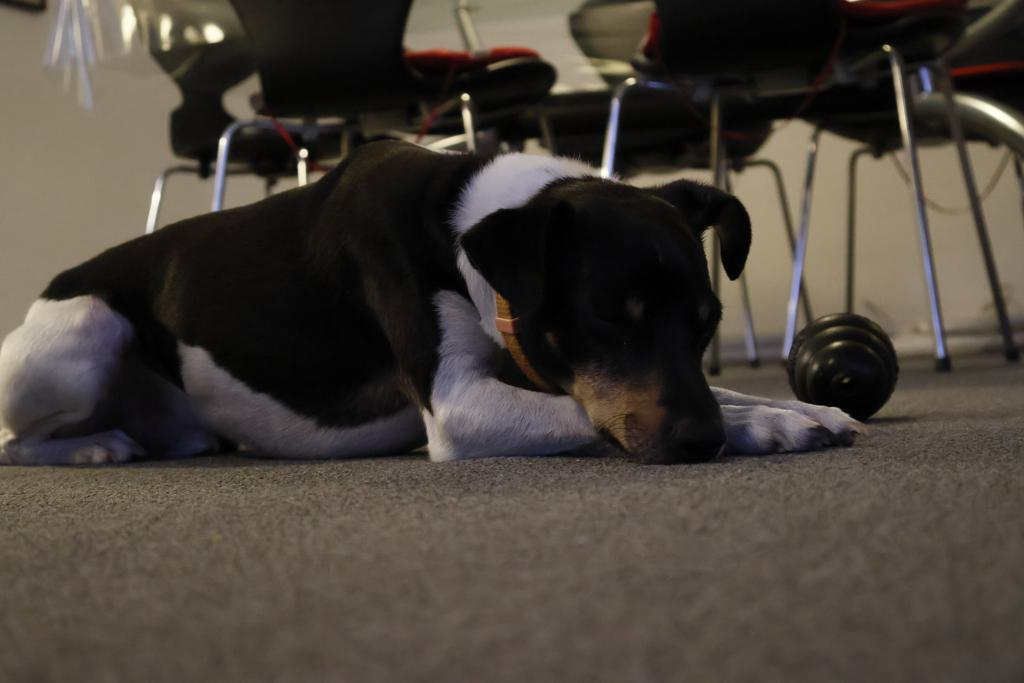Dog: (0, 116, 887, 475)
